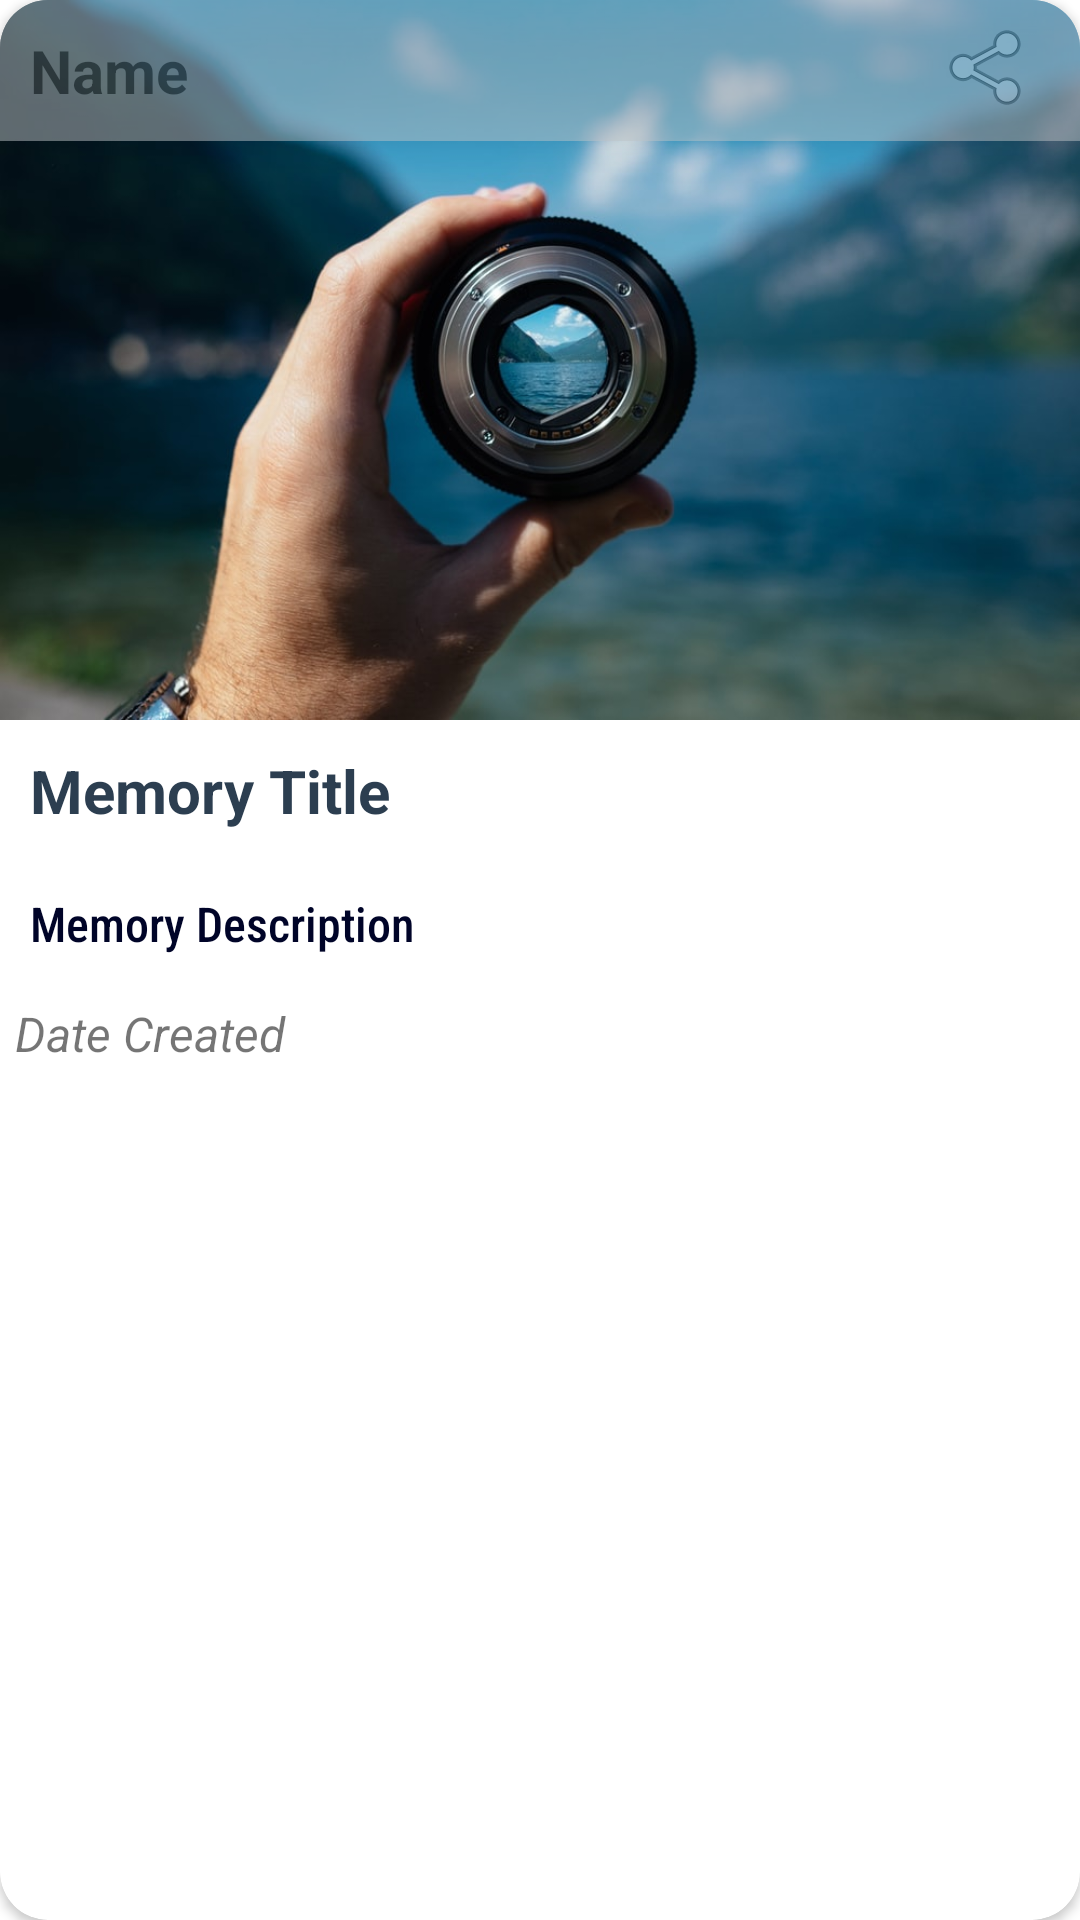

Icon click points for this 1080*1920 phone screenshot, format (x,y):
share: (990,67)
